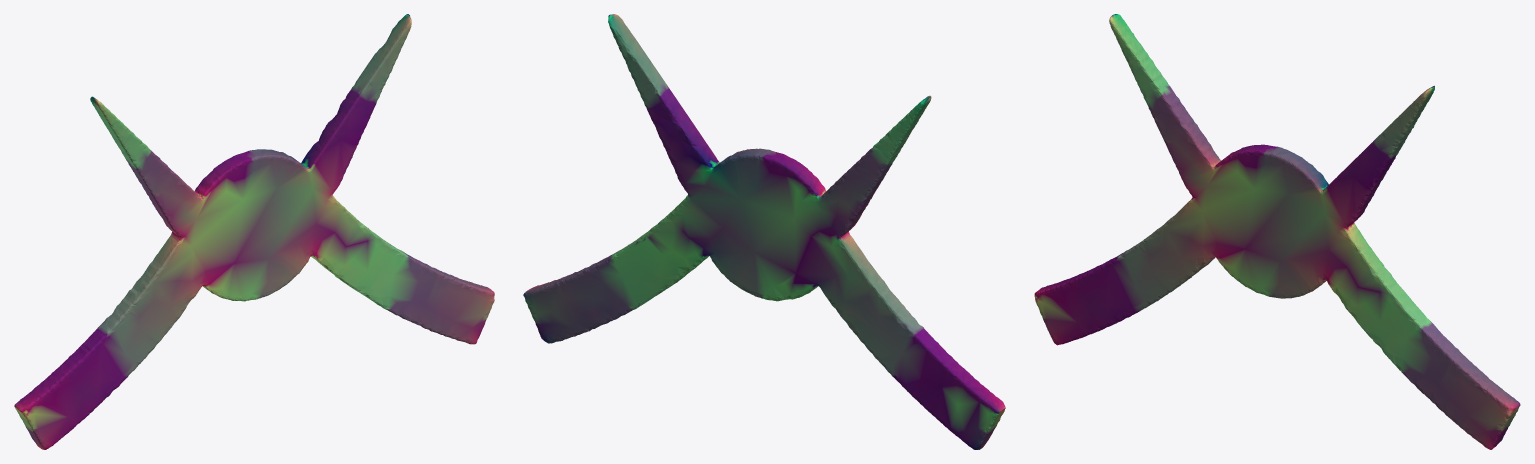
File: scissor-20.off.obj
3 renders of one model, left to right at view 1: azimuth 30°, elevation 25°; view 2: azimuth 150°, elevation 25°; view 3: azimuth 330°, elevation 25°, orthographic.
Bounding box in the file's own units: 1.67 × 1.16 × 0.0608.
